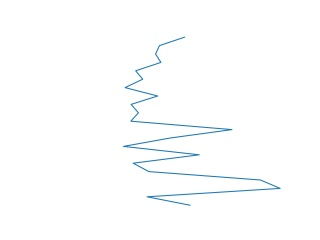crevasseRiverBedLagDeposit: (120, 33, 283, 210)
